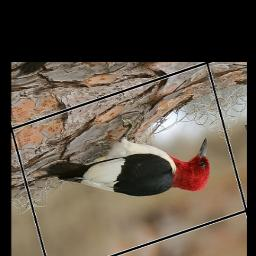Woodpecker: (28, 88, 222, 241)
